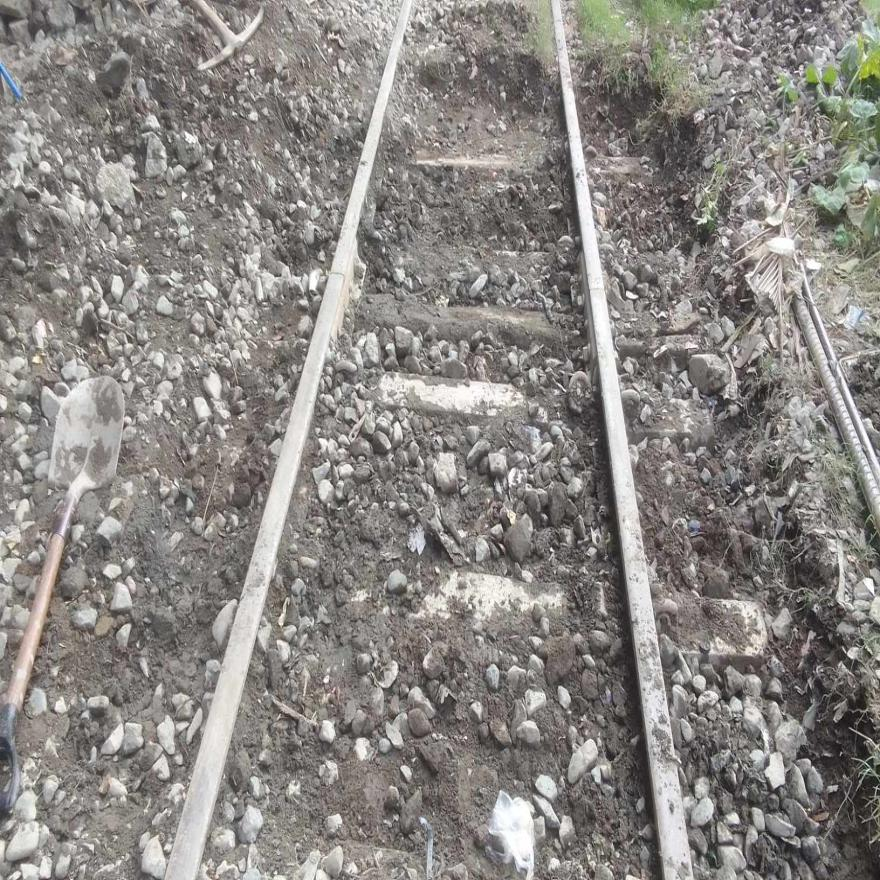railway-gap: (316, 234, 358, 316), (574, 254, 618, 327)
